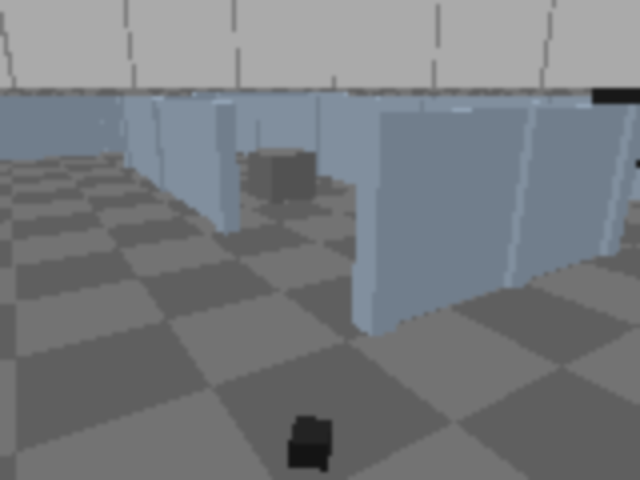puck: (289, 416, 332, 471)
